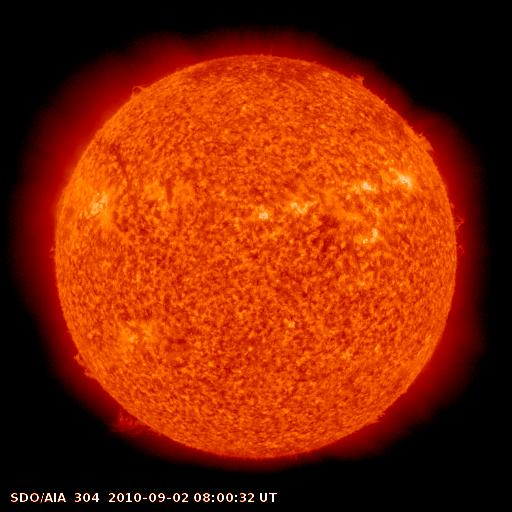prominence: (445, 197, 480, 258), (107, 398, 155, 439), (406, 115, 447, 162), (67, 345, 109, 387), (344, 60, 375, 91), (124, 75, 153, 105)
